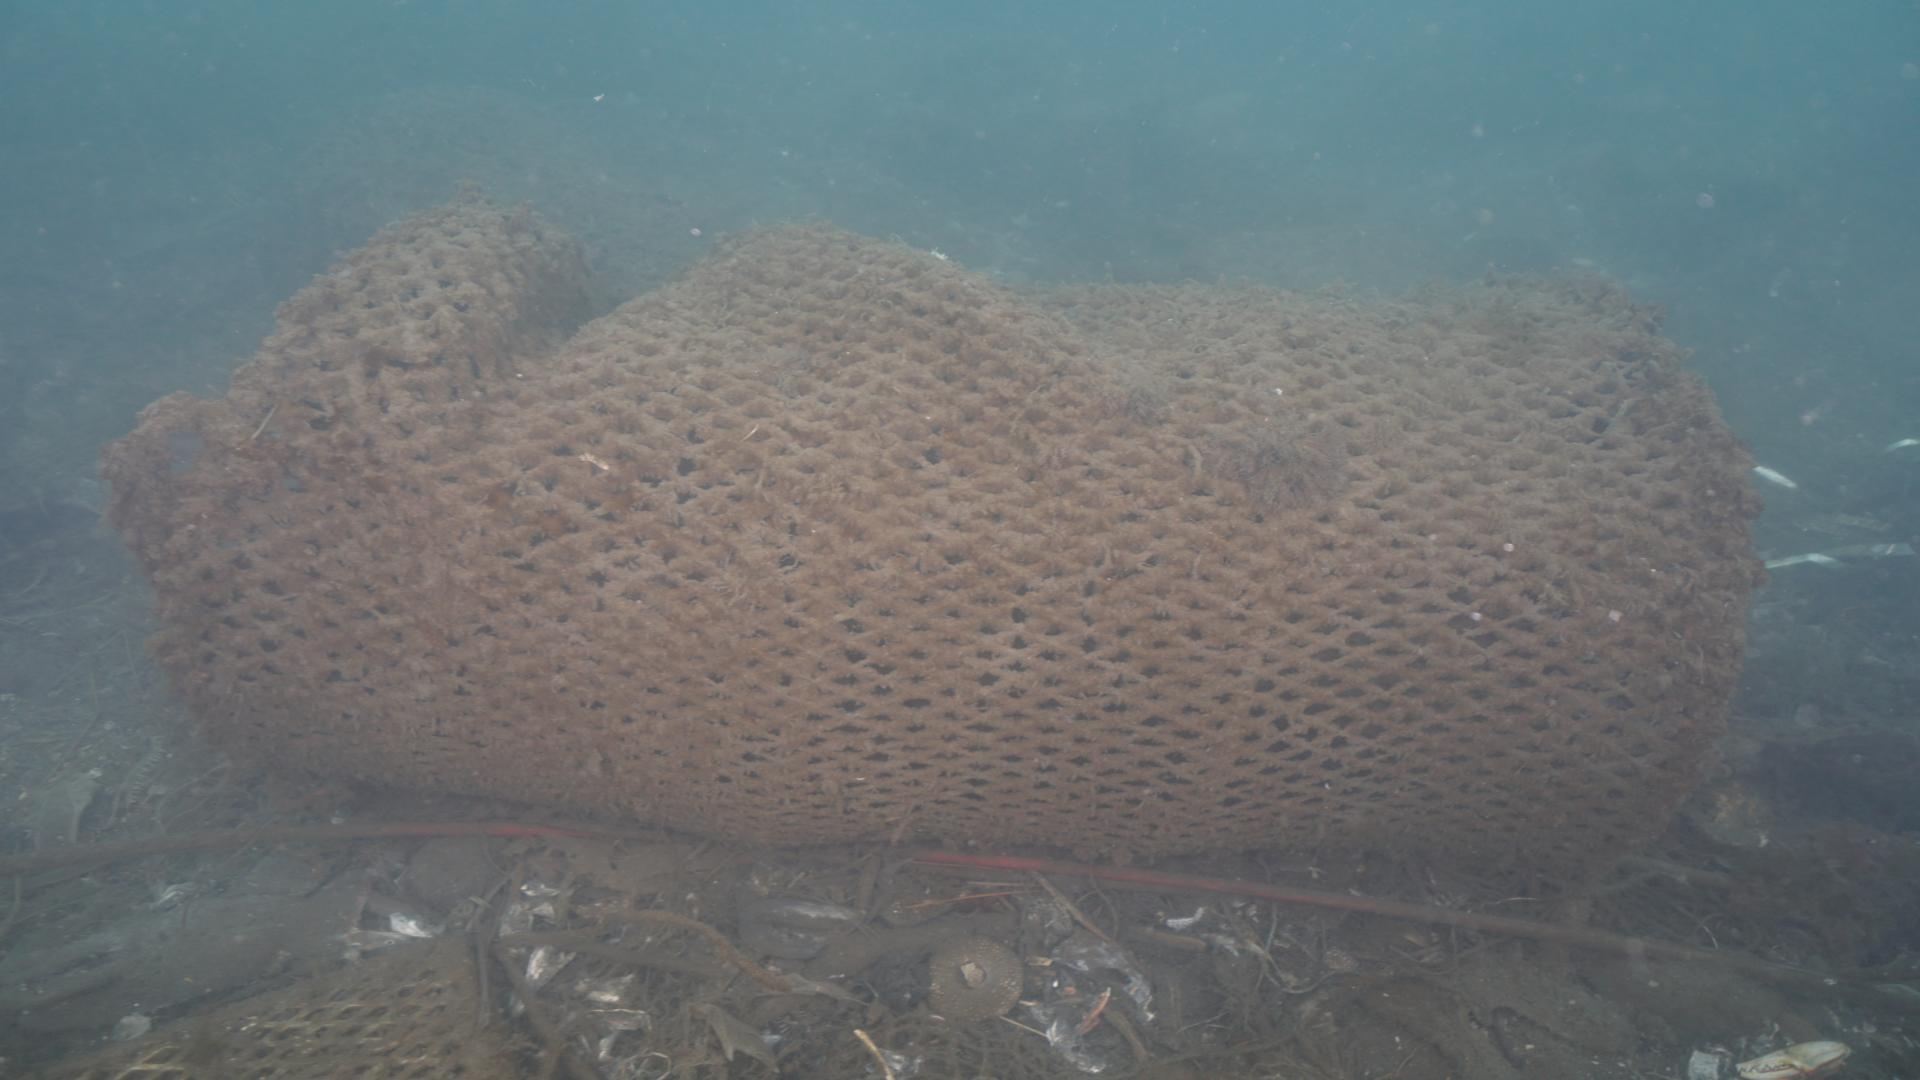spring fish trap: (98, 181, 1763, 890)
